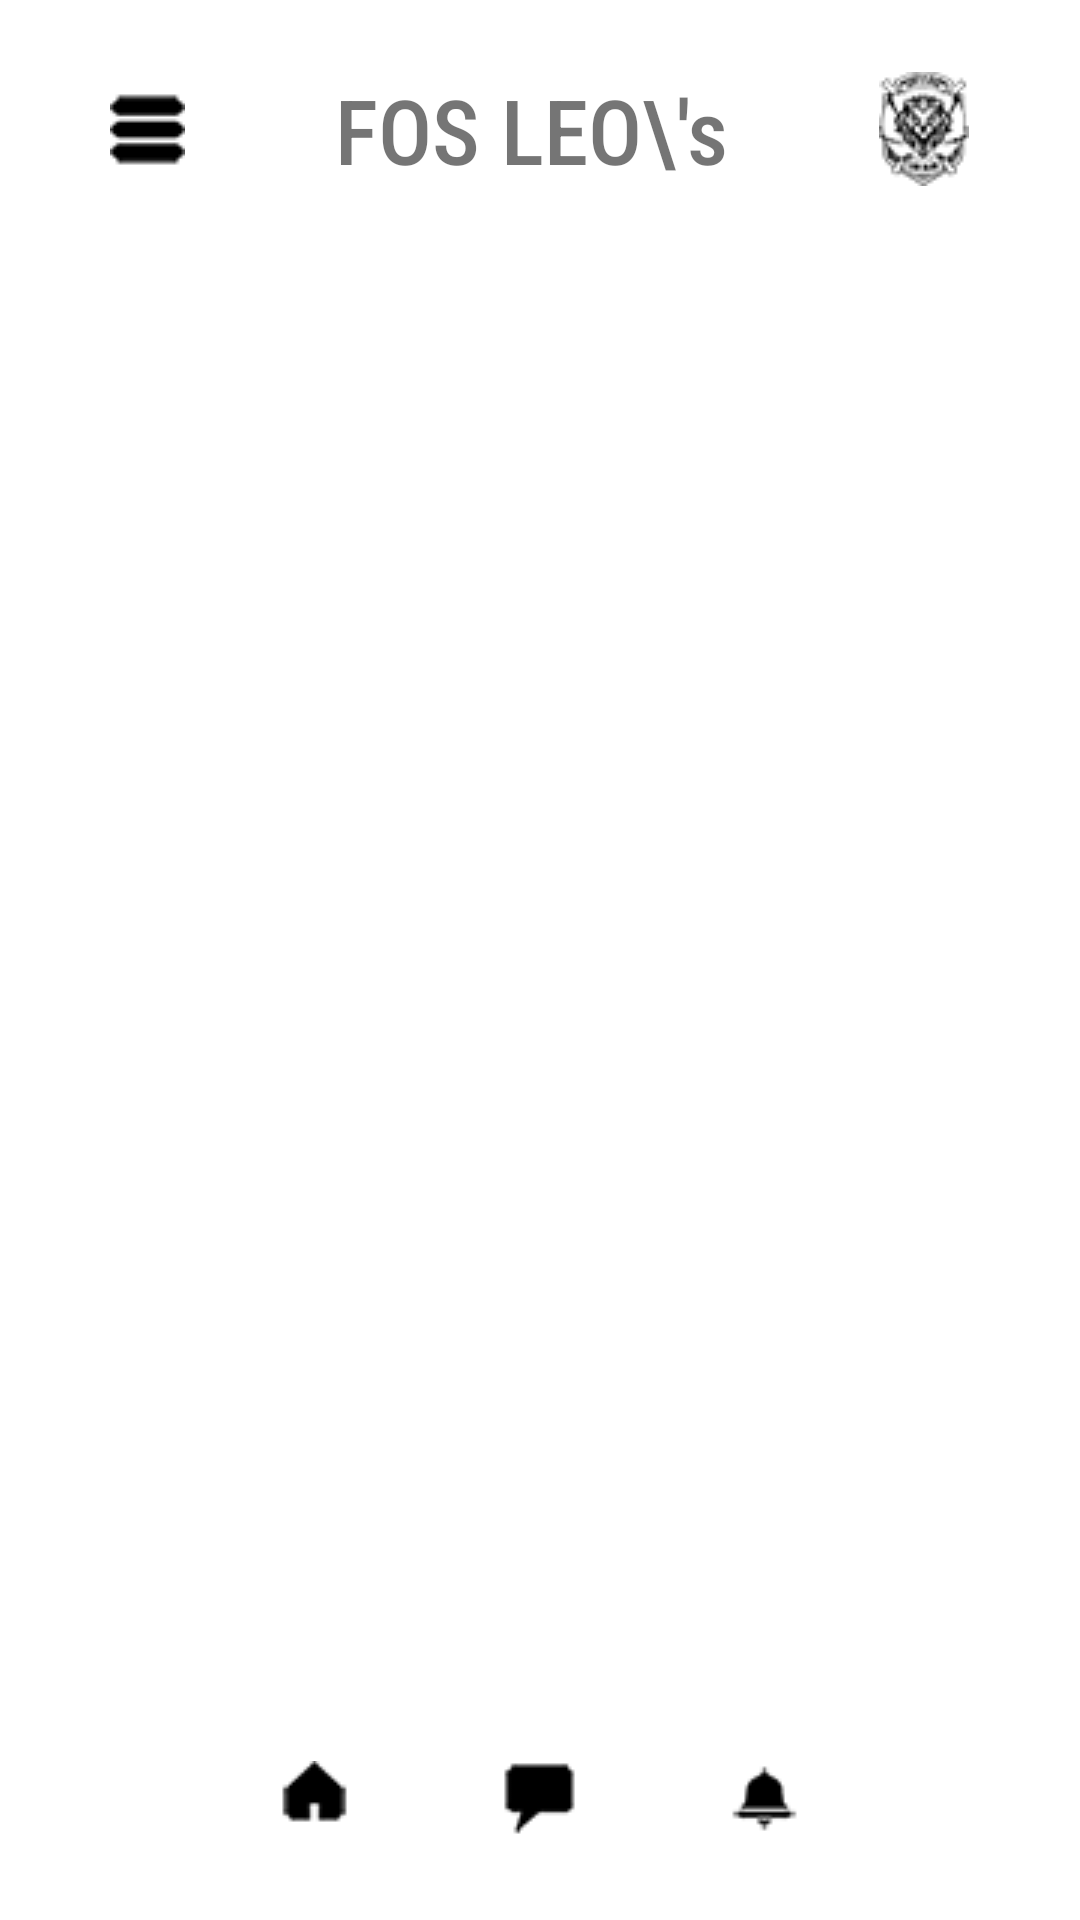

Where to tap for icons on this 1080 x 1920 app screen, as (x=x, y=y):
chat: (x=539, y=1798)
home: (x=314, y=1791)
menu: (x=147, y=129)
notification: (x=764, y=1798)
